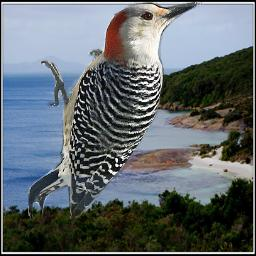Woodpecker: (28, 0, 202, 219)
